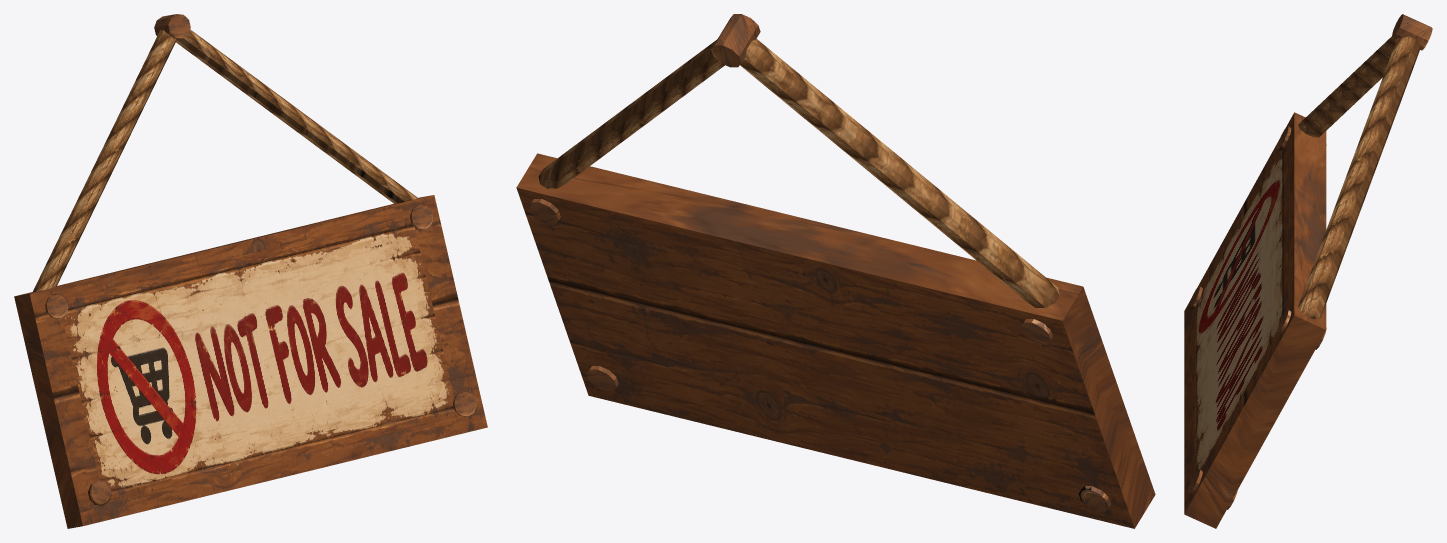
The model's file is satılmıyor tabelası.fbx.
The picture shows the model from 3 angles, left to right: view 1: azimuth 30°, elevation 25°; view 2: azimuth 150°, elevation 25°; view 3: azimuth 270°, elevation 25°; orthographic projection. The views are drawn at different scales.
Visible parts, largest first — view 1: Plane; view 2: Plane; view 3: Plane.
Part boxes in pixels (x1=…): Plane: x1=14, y1=14, x2=487, y2=528; Plane: x1=516, y1=14, x2=1155, y2=528; Plane: x1=1184, y1=14, x2=1432, y2=528.
Size of the model in its own units: 28.95 by 27.3 by 14.96.
1 material, 1 textured.
